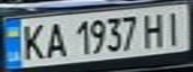1: (69, 17, 90, 55)
3: (106, 15, 127, 53)
7: (118, 12, 142, 51)
9: (87, 16, 109, 54)
A: (42, 19, 69, 60)
H: (139, 10, 169, 48)
I: (160, 7, 190, 46)
K: (15, 20, 48, 62)
